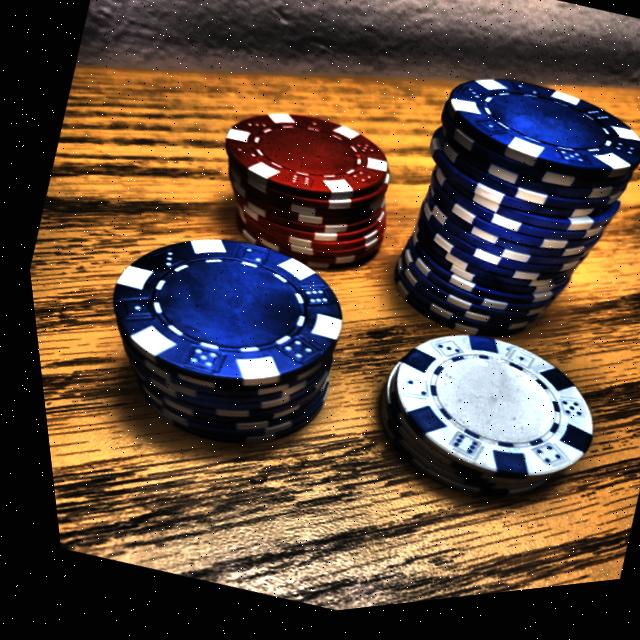Chip: (335, 32, 640, 442), (48, 191, 377, 502), (322, 295, 640, 560), (155, 55, 439, 341)
